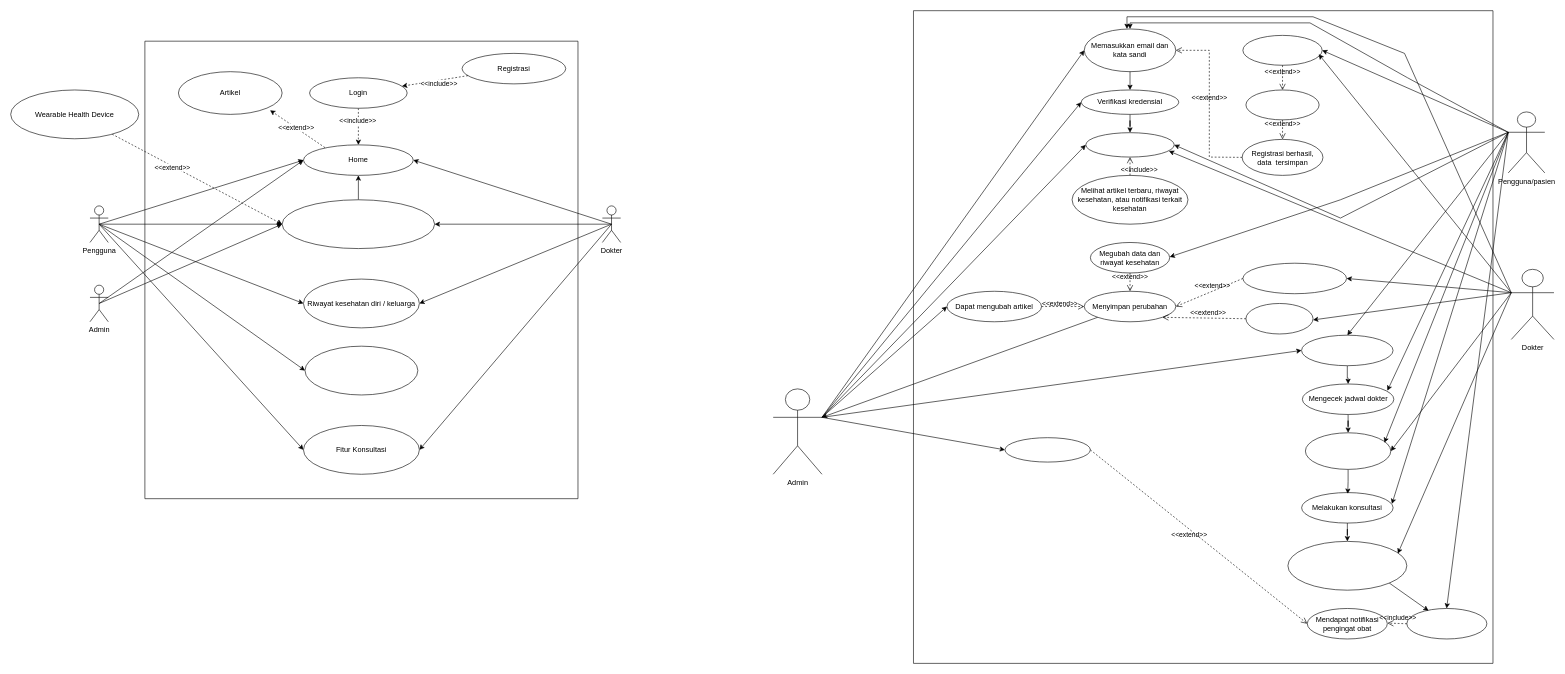
Some shapes in this 1565 by 674 pixel diagram are drawn without their labels. Each missing label, with the centre of its shape:
Masuk dalam home: point (1129, 144)
Masuk dalam menu chatting atau vc: point (1348, 450)
Melihat profil dokter professional: point (1347, 350)
Memberi notifikasi: point (1047, 449)
Memberikan diagnosa penyakit, cara penanganan, dan resep obat: point (1347, 565)
Membuka halaman registrasi: point (1282, 50)
Menerima resep obat: point (1446, 623)
Mengisi data yang diperlukan: point (1282, 104)
Mengisi jadwal free untuk konsultasi pasien: point (1294, 278)
Mengubah profil dokter: point (1279, 318)
Pengingat Obat: point (361, 370)
Profile kesehatan: point (358, 224)
